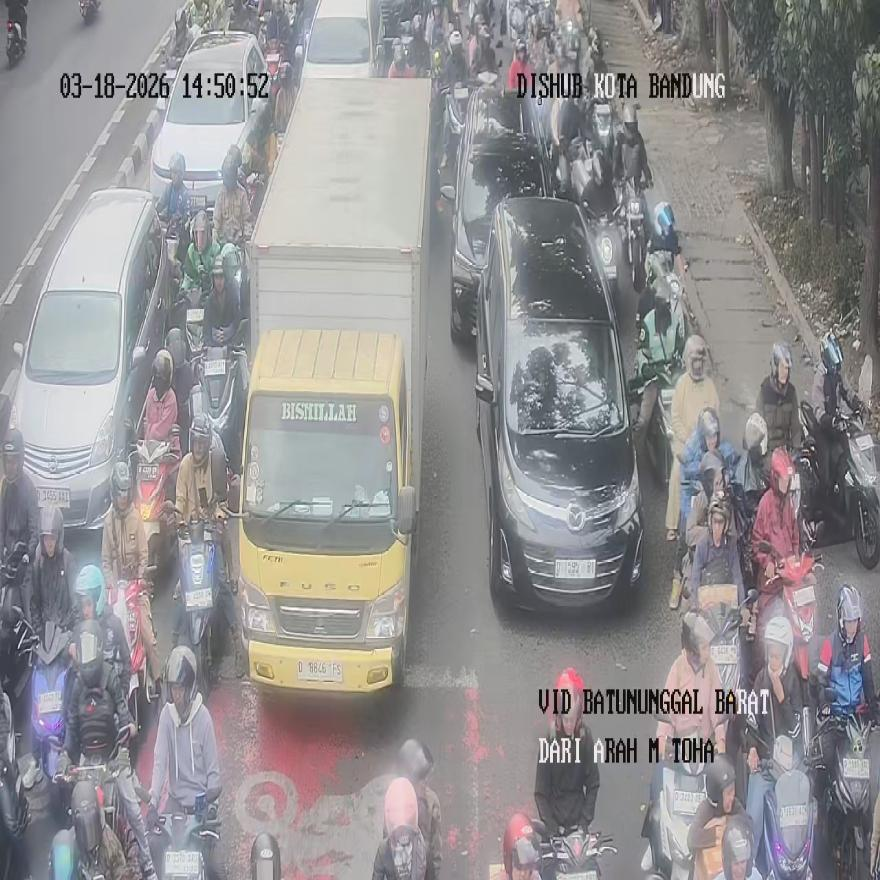Mobil: (233, 77, 434, 692), (474, 196, 644, 608), (8, 187, 167, 529), (441, 86, 550, 338), (151, 29, 273, 231), (295, 0, 381, 87)
Motor: (795, 359, 879, 568), (51, 722, 139, 880), (631, 259, 688, 485), (745, 731, 817, 880), (754, 542, 821, 696), (817, 708, 877, 877), (175, 514, 224, 696), (641, 755, 707, 880), (194, 326, 248, 478), (129, 430, 180, 589), (107, 576, 157, 734), (28, 618, 72, 778), (147, 792, 222, 880), (0, 542, 36, 715), (0, 692, 32, 880), (538, 824, 617, 880), (616, 177, 648, 292), (443, 83, 470, 169), (5, 0, 27, 68), (170, 4, 192, 66), (509, 1, 531, 61), (556, 14, 580, 68), (78, 0, 100, 24)
